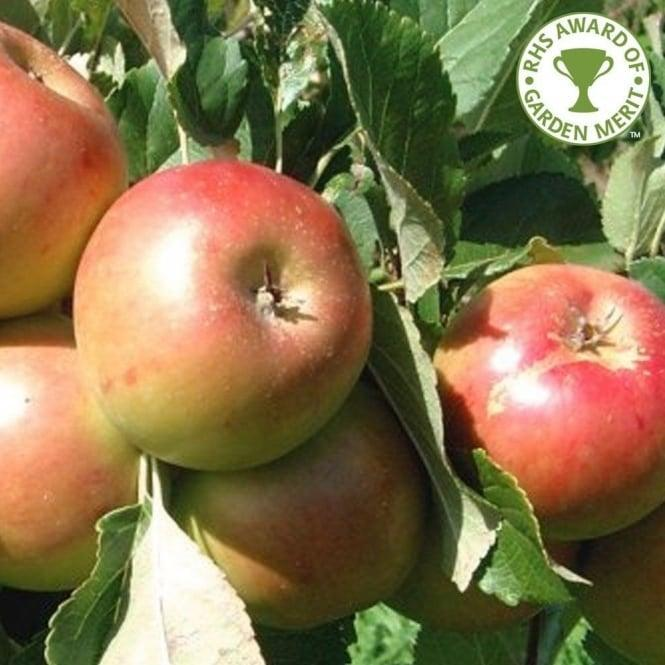apple: (67, 147, 373, 470), (170, 376, 428, 630), (434, 267, 661, 539), (1, 20, 131, 317), (1, 315, 134, 590)
